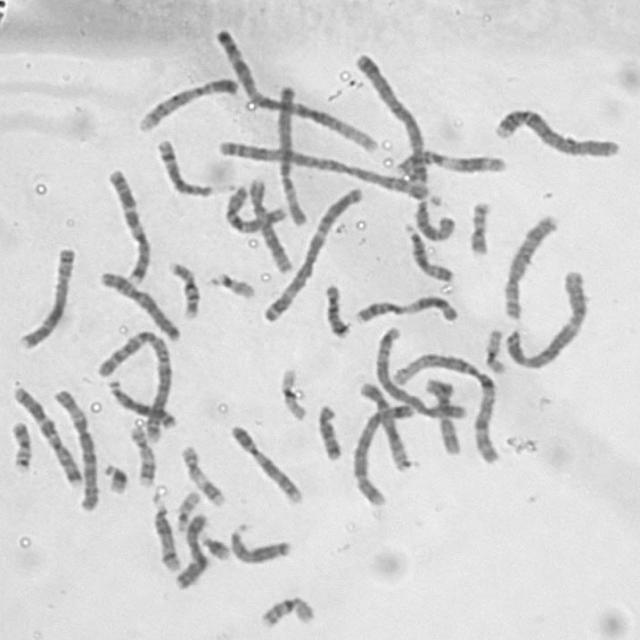A1: (208, 22, 380, 154), (385, 345, 502, 465)
A2: (209, 134, 432, 198), (91, 324, 176, 438)
A3: (257, 181, 365, 324), (499, 262, 592, 370)
B4: (350, 46, 432, 195), (489, 101, 623, 160)
B5: (369, 322, 467, 421), (346, 394, 415, 508)
C10: (218, 178, 290, 235), (420, 371, 464, 457)
C11: (389, 144, 512, 178), (349, 289, 461, 325)
C12: (352, 376, 413, 472), (243, 173, 296, 274)
C6: (49, 384, 102, 513), (272, 76, 312, 228)
C7: (5, 380, 85, 487), (100, 162, 152, 285)
C8: (498, 208, 562, 321), (12, 242, 76, 352)
C9: (224, 419, 305, 506), (132, 71, 240, 133)
D13: (101, 373, 179, 430), (226, 516, 294, 566)
D14: (152, 134, 216, 198), (145, 487, 183, 573)
D15: (398, 218, 457, 284), (410, 192, 458, 242)
E16: (162, 255, 203, 320), (254, 589, 318, 630)
E17: (176, 439, 228, 507), (124, 419, 158, 488)
E18: (312, 398, 344, 462), (318, 278, 352, 338)
F19: (274, 361, 309, 422), (479, 322, 508, 376)
F20: (463, 194, 494, 258), (4, 414, 35, 473)
G21: (194, 526, 233, 561), (98, 456, 130, 496)
G22: (203, 265, 258, 301), (170, 484, 202, 532)
X: (94, 265, 182, 342), (170, 507, 210, 591)
